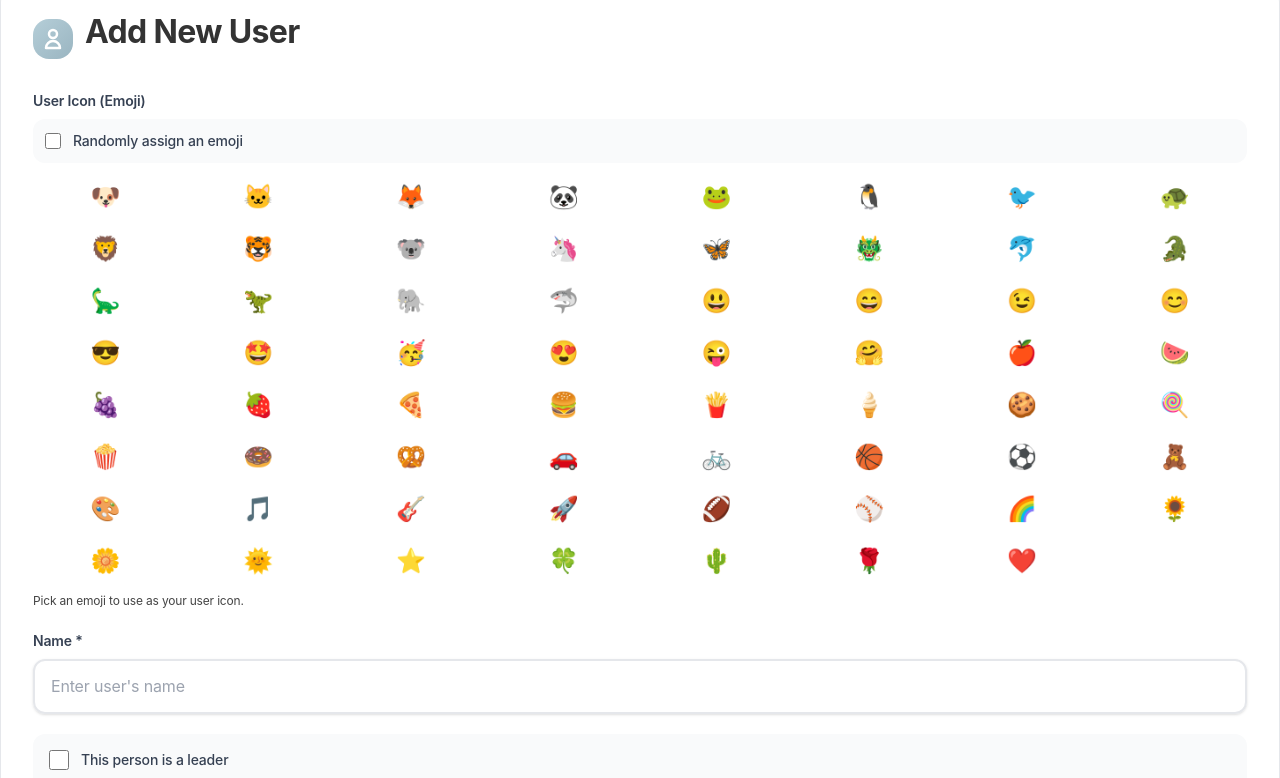
it: UserForm › form submission › resets form after successful submission
Type "John Doe" into the field labelled "Name *". click: (640, 687)
box: 33,659 -> 1247,714
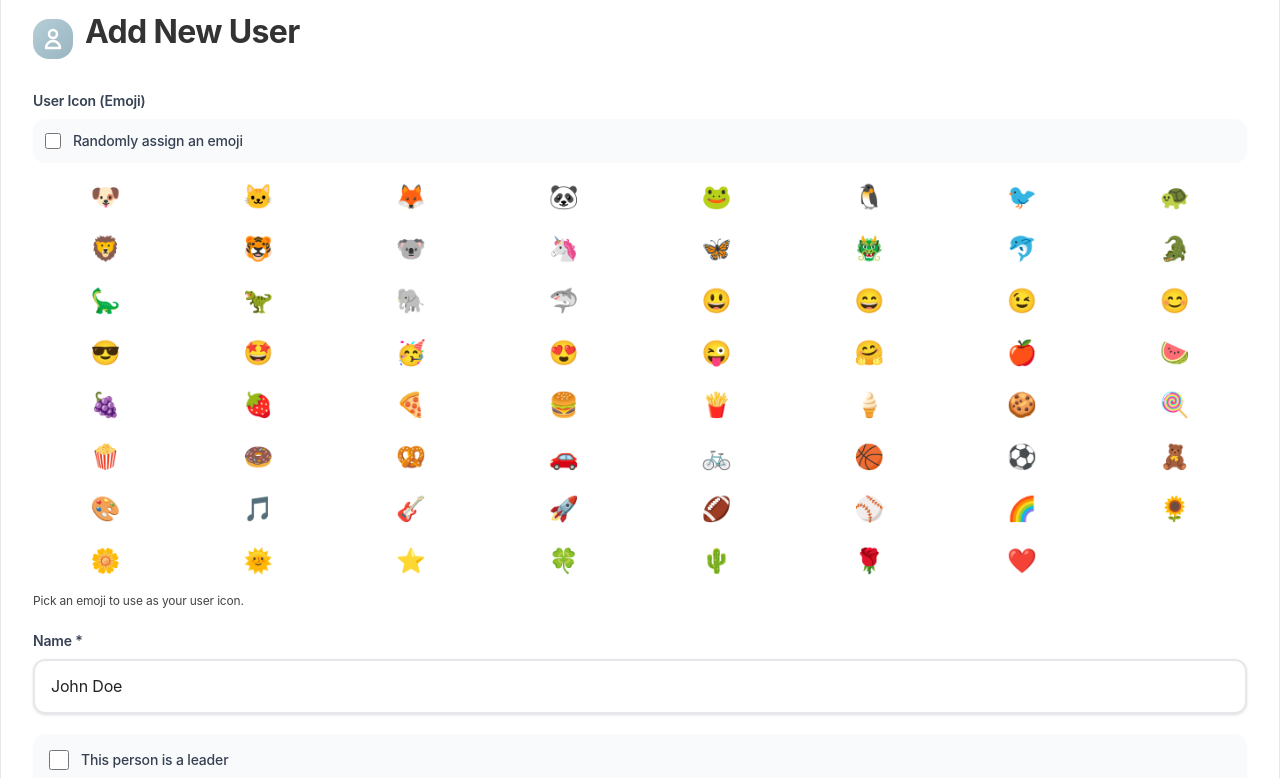
Click the checkbox labelled "This person is a leader". click: (59, 760)
box: 49,750 -> 69,770
(page scrolled)
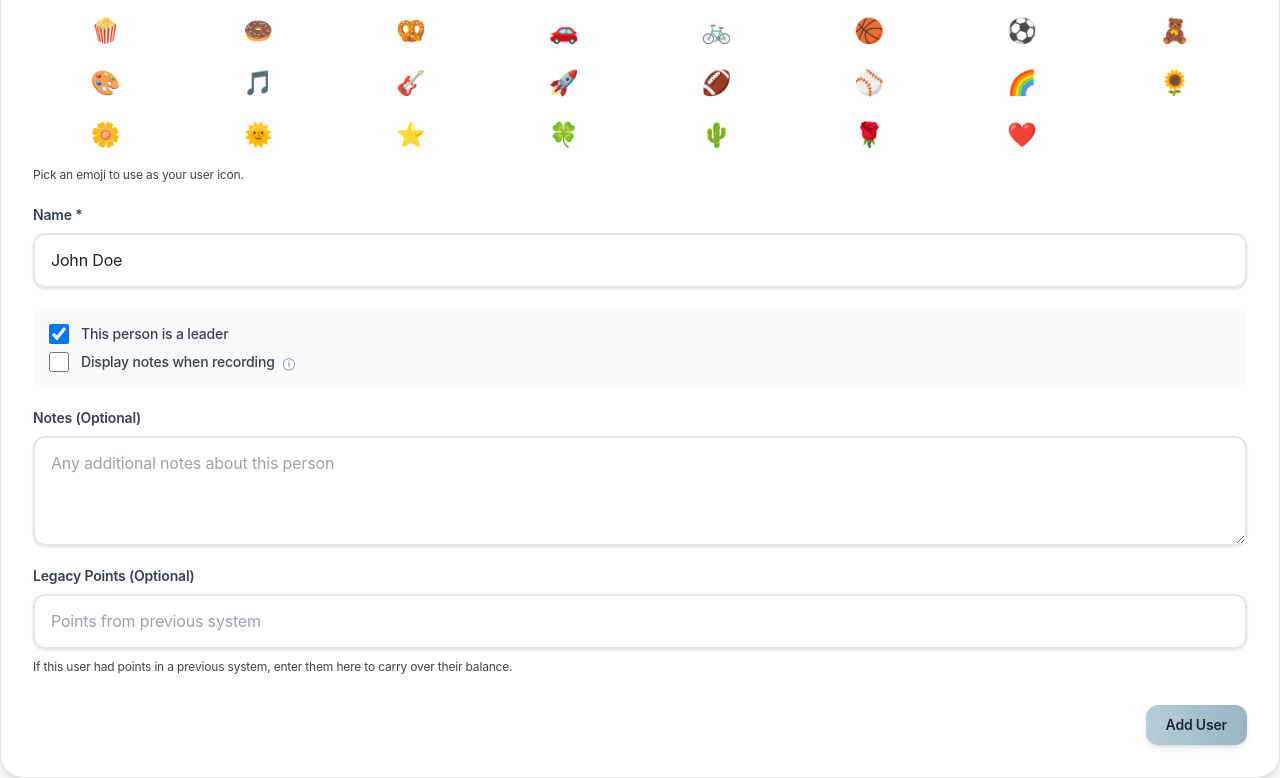
Type "Test notes" into the text box labelled "Notes (Optional)". click: (640, 491)
box: 33,436 -> 1247,546
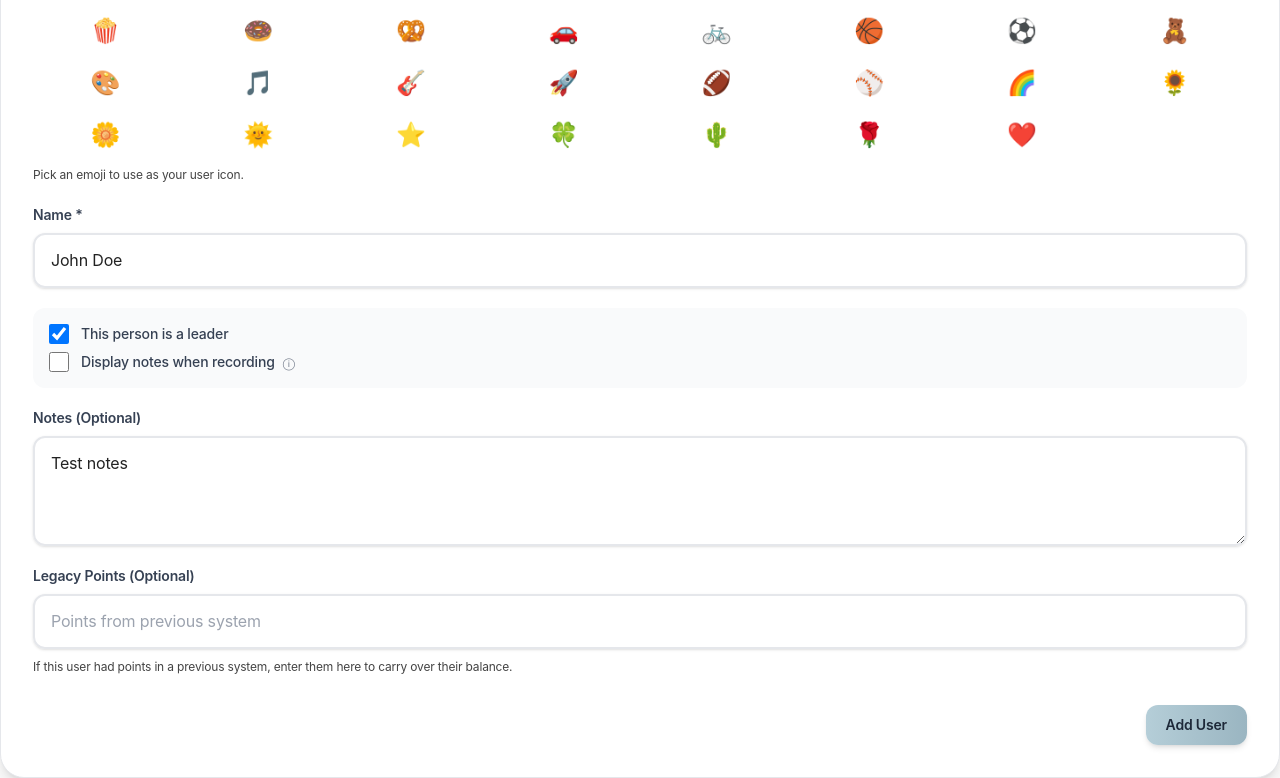
Click the button "Add User". click: (1196, 725)
box: 1146,705 -> 1247,745
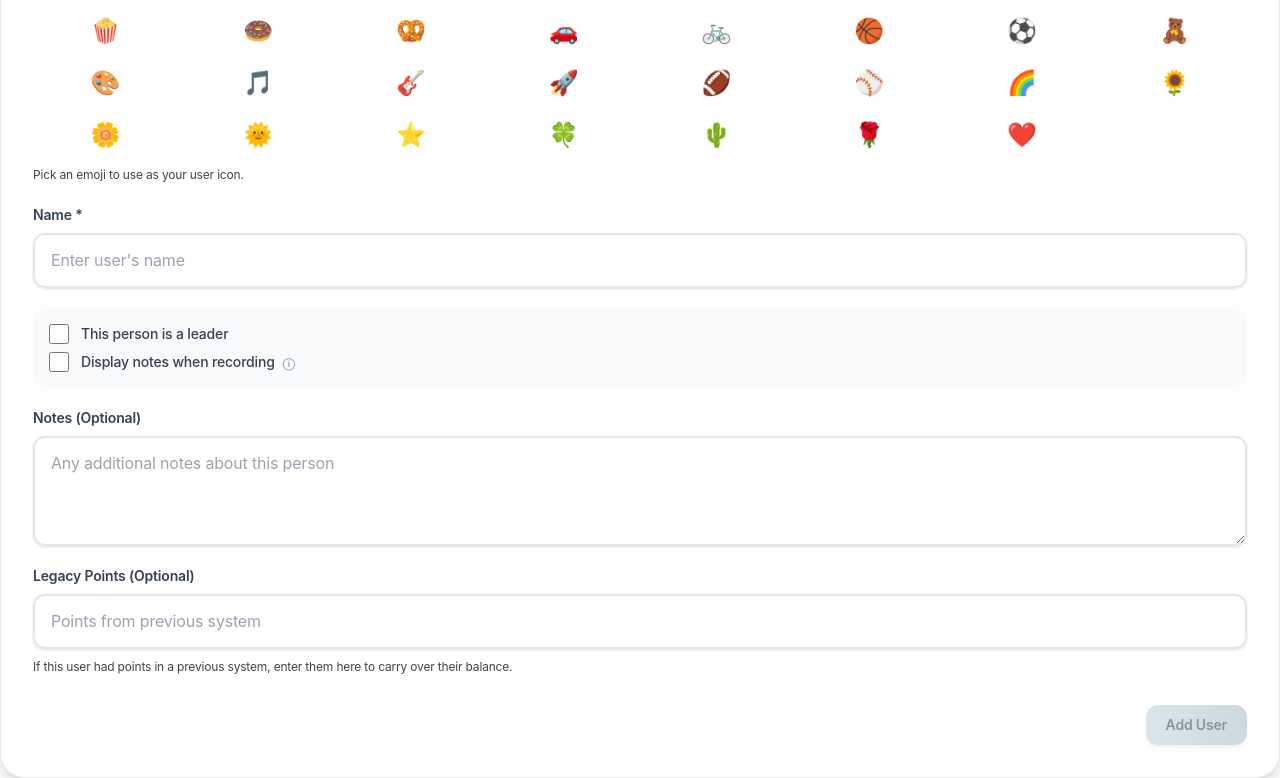
Expected: the checkbox labelled "This person is a leader" is not checked, 49,324 -> 69,344
Expected: the field labelled "Name *" is empty, 33,233 -> 1247,288
Expected: the text box labelled "Notes (Optional)" is empty, 33,436 -> 1247,546
